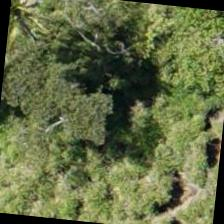Kelapa_Sawit: (5, 0, 62, 62), (6, 0, 59, 51)
